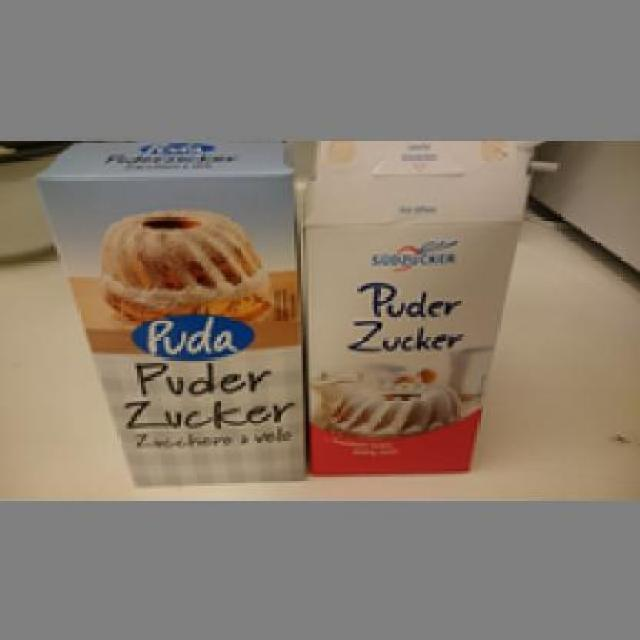Sugar: (28, 140, 304, 486), (300, 174, 520, 477)
